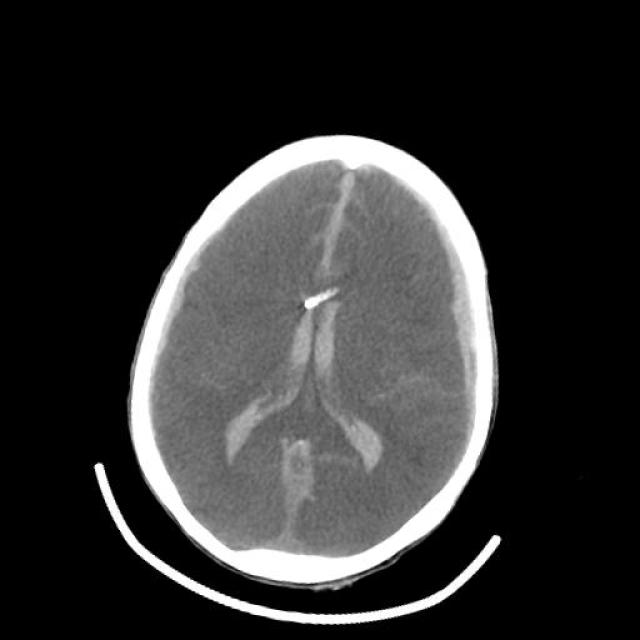Intraparenchymal: (252, 434, 326, 538)
Intraventricular: (198, 258, 334, 478), (292, 273, 418, 491)
Subarachnoid: (297, 191, 383, 251)
Subdural: (354, 175, 566, 455), (110, 231, 210, 415)
